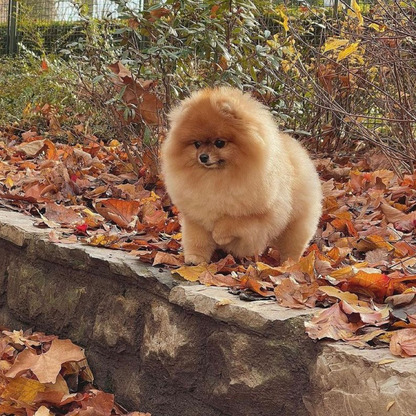Pomeranian: (139, 89, 336, 287)
